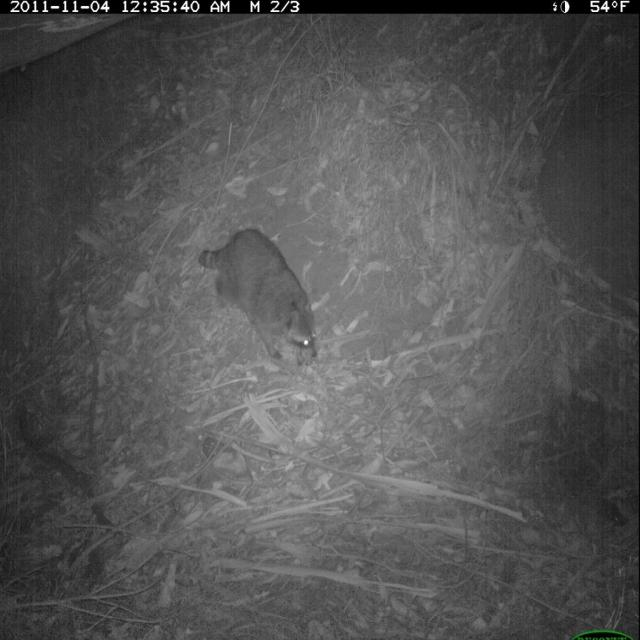raccoon: (194, 219, 326, 378)
